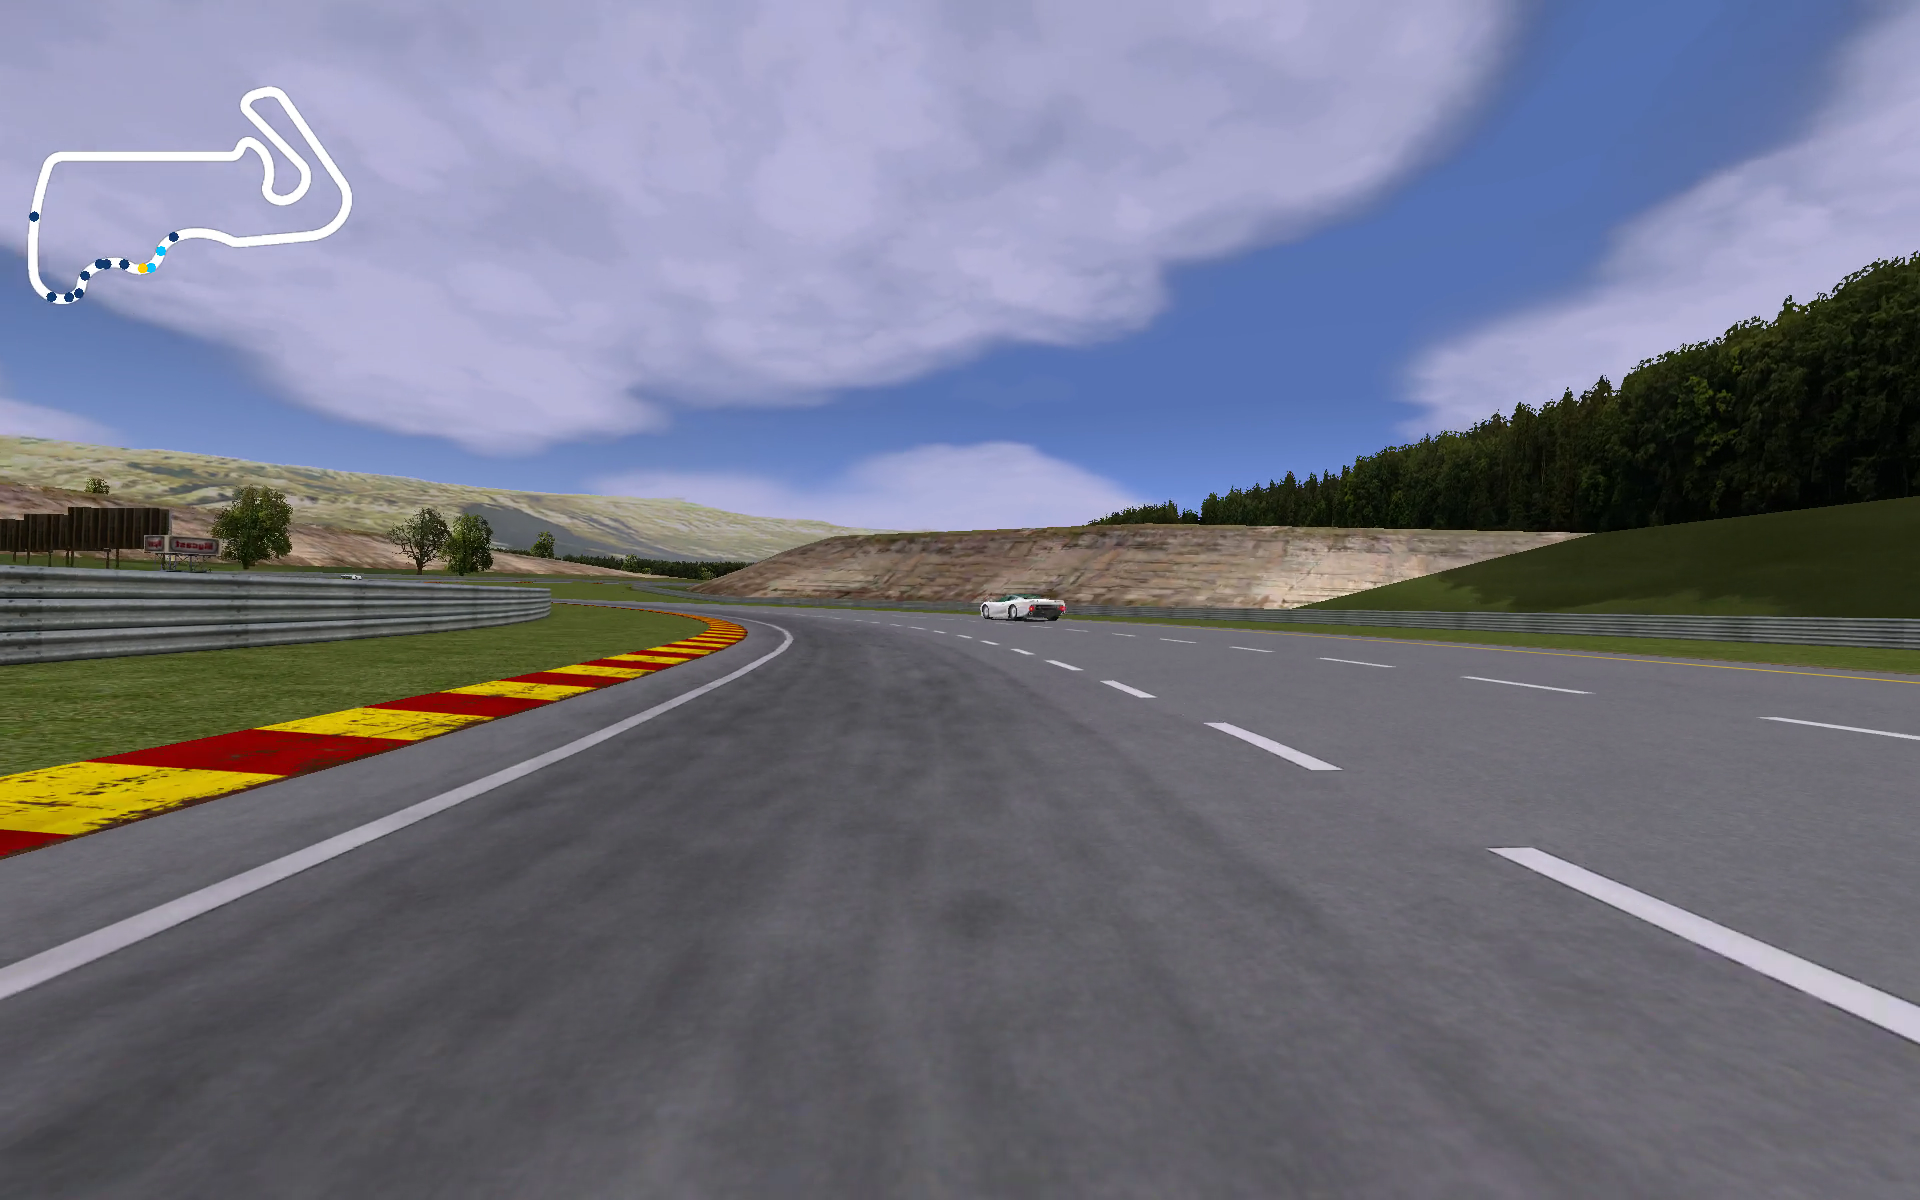car: (980, 592, 1071, 624)
